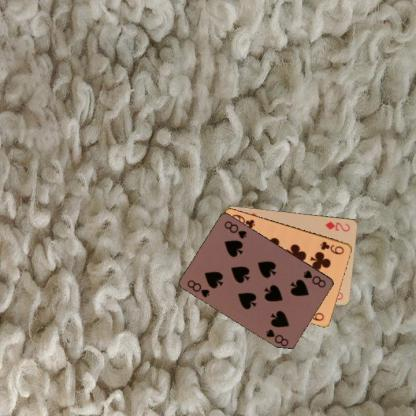2d: (323, 218, 351, 233)
8s: (301, 267, 327, 289), (185, 278, 211, 300)
9c: (318, 238, 345, 256)
